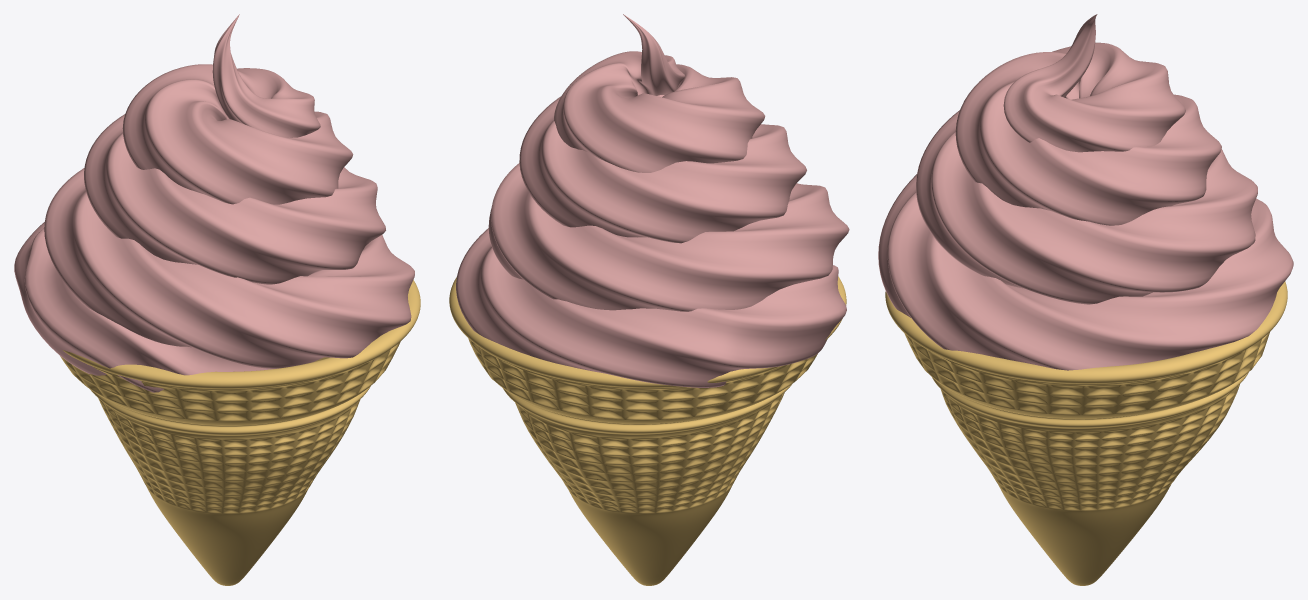
Rendered from HELADO2.glb.
3 renders of one model, left to right at view 1: azimuth 30°, elevation 25°; view 2: azimuth 150°, elevation 25°; view 3: azimuth 270°, elevation 25°, orthographic. The views are drawn at different scales.
Visible parts, largest first — view 1: Circle, Cylinder.068; view 2: Circle, Cylinder.068; view 3: Circle, Cylinder.068.
Boxes of the visible parts, x1,y1,x2,y2 form: Circle: (14, 14, 414, 392); Cylinder.068: (60, 280, 420, 585); Circle: (456, 14, 849, 387); Cylinder.068: (449, 276, 846, 585); Circle: (878, 14, 1293, 370); Cylinder.068: (885, 281, 1287, 585).
Size of the model in its own units: 0.0651 by 0.0988 by 0.0644.
